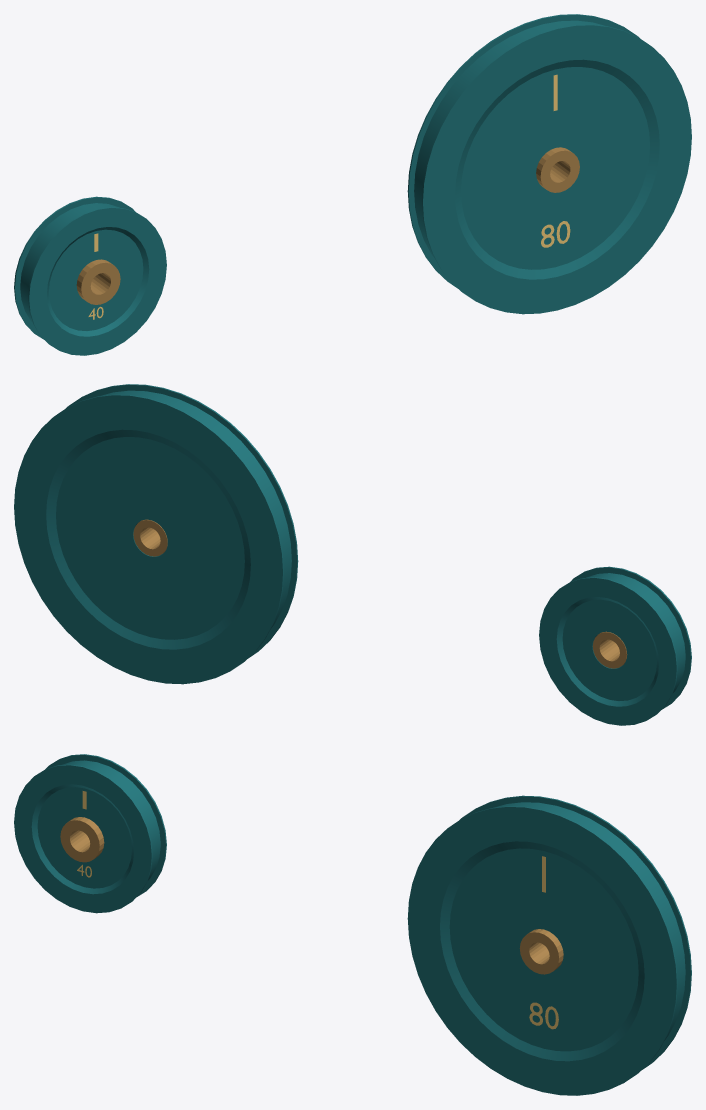
File: VLAB_belt_pulley.fbx
The picture shows the model from 3 angles, top to bottom: view 1: azimuth 30°, elevation 25°; view 2: azimuth 150°, elevation 25°; view 3: azimuth 330°, elevation 25°; orthographic projection.
Parts seen in each view (by area): view 1: VLAB_belt_pulley_Pulley80_VIS, VLAB_belt_pulley_Pulley40_VIS, VLAB_belt_pulley_Bore_VIS, VLAB_belt_pulley_Bore80_VIS; view 2: VLAB_belt_pulley_Pulley80_VIS, VLAB_belt_pulley_Pulley40_VIS, VLAB_belt_pulley_Bore80_VIS, VLAB_belt_pulley_Bore_VIS; view 3: VLAB_belt_pulley_Pulley80_VIS, VLAB_belt_pulley_Pulley40_VIS, VLAB_belt_pulley_Bore80_VIS, VLAB_belt_pulley_Bore_VIS.
Boxes of the visible parts, <box> form: VLAB_belt_pulley_Pulley80_VIS: <box>407,14,691,314</box>; VLAB_belt_pulley_Pulley40_VIS: <box>14,196,166,355</box>; VLAB_belt_pulley_Bore_VIS: <box>76,259,120,304</box>; VLAB_belt_pulley_Bore80_VIS: <box>536,147,579,192</box>; VLAB_belt_pulley_Pulley80_VIS: <box>14,384,298,684</box>; VLAB_belt_pulley_Pulley40_VIS: <box>539,566,691,725</box>; VLAB_belt_pulley_Bore80_VIS: <box>133,519,167,556</box>; VLAB_belt_pulley_Bore_VIS: <box>592,631,627,668</box>; VLAB_belt_pulley_Pulley80_VIS: <box>407,795,691,1095</box>; VLAB_belt_pulley_Pulley40_VIS: <box>14,754,166,913</box>; VLAB_belt_pulley_Bore80_VIS: <box>519,929,563,974</box>; VLAB_belt_pulley_Bore_VIS: <box>60,817,104,862</box>.
Bounding box in the file's own units: 0.202 × 0.082 × 0.0095.
